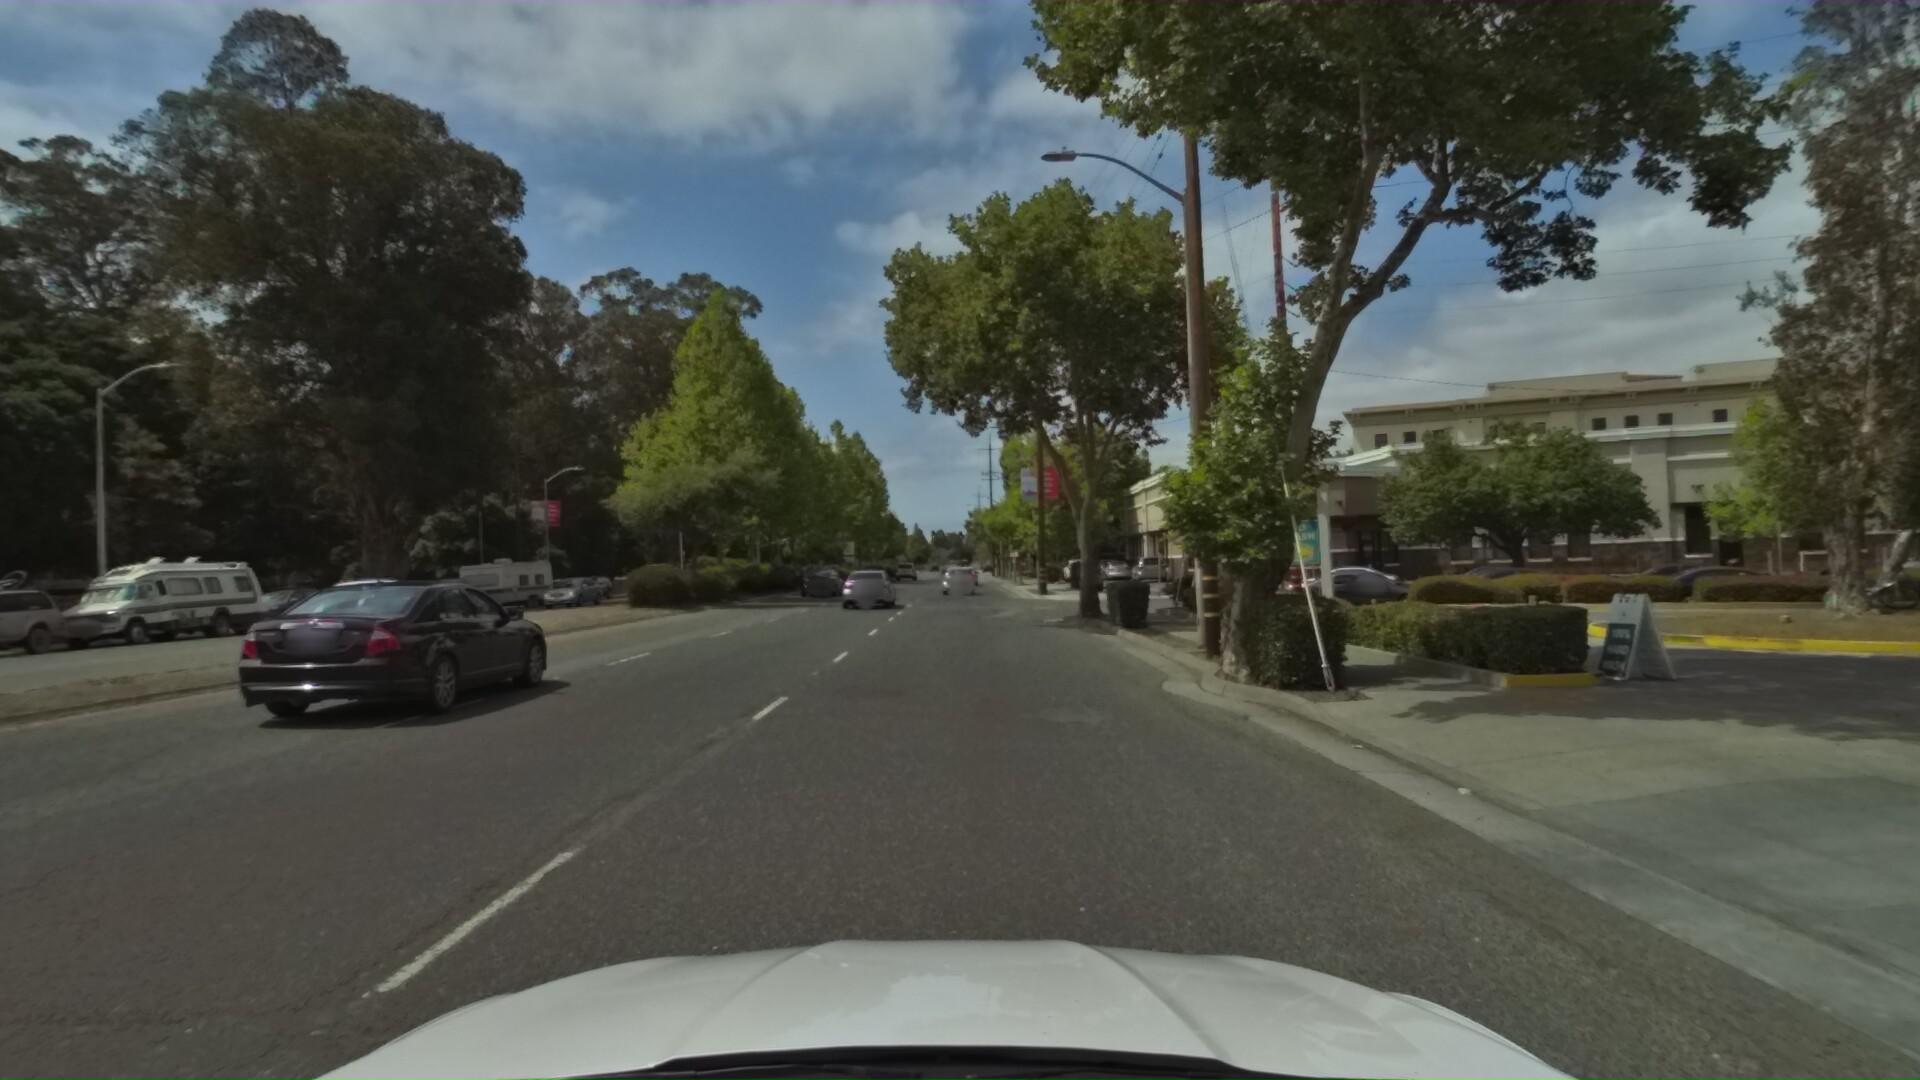bicycle: (1822, 556, 1920, 612)
car: (185, 574, 568, 748), (241, 575, 423, 644), (1644, 556, 1837, 611), (1447, 560, 1606, 612), (1291, 562, 1443, 615), (206, 585, 338, 642), (1598, 556, 1749, 599), (1279, 560, 1403, 603), (1424, 559, 1553, 599), (1862, 553, 1920, 612), (833, 568, 898, 613), (527, 579, 597, 615), (795, 567, 844, 599), (938, 564, 976, 603), (1127, 553, 1166, 582), (1097, 556, 1131, 580), (961, 566, 984, 589)
other_vehicle: (21, 554, 260, 659), (436, 555, 553, 620)
